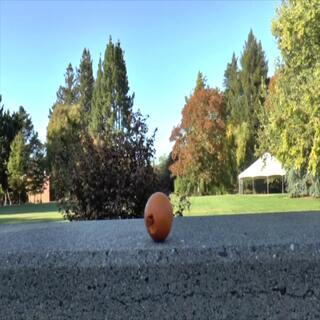orange: (135, 187, 178, 243)
